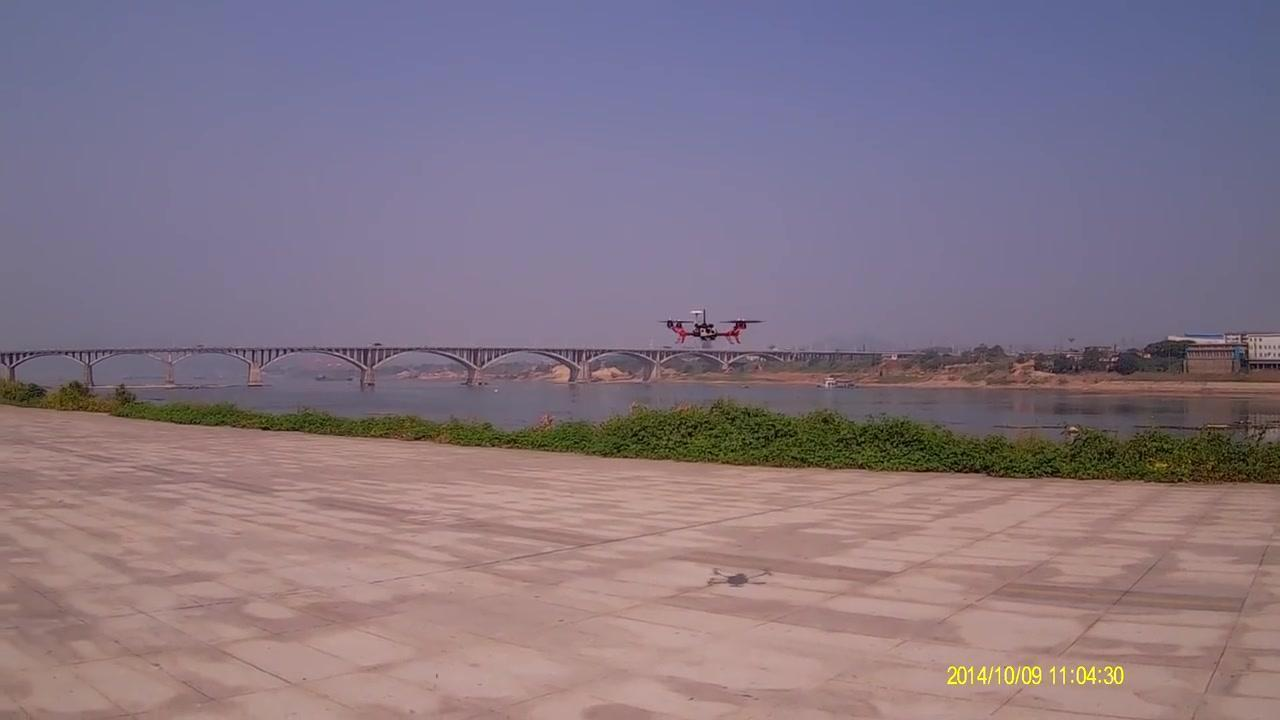UAV: (665, 309, 753, 347)
